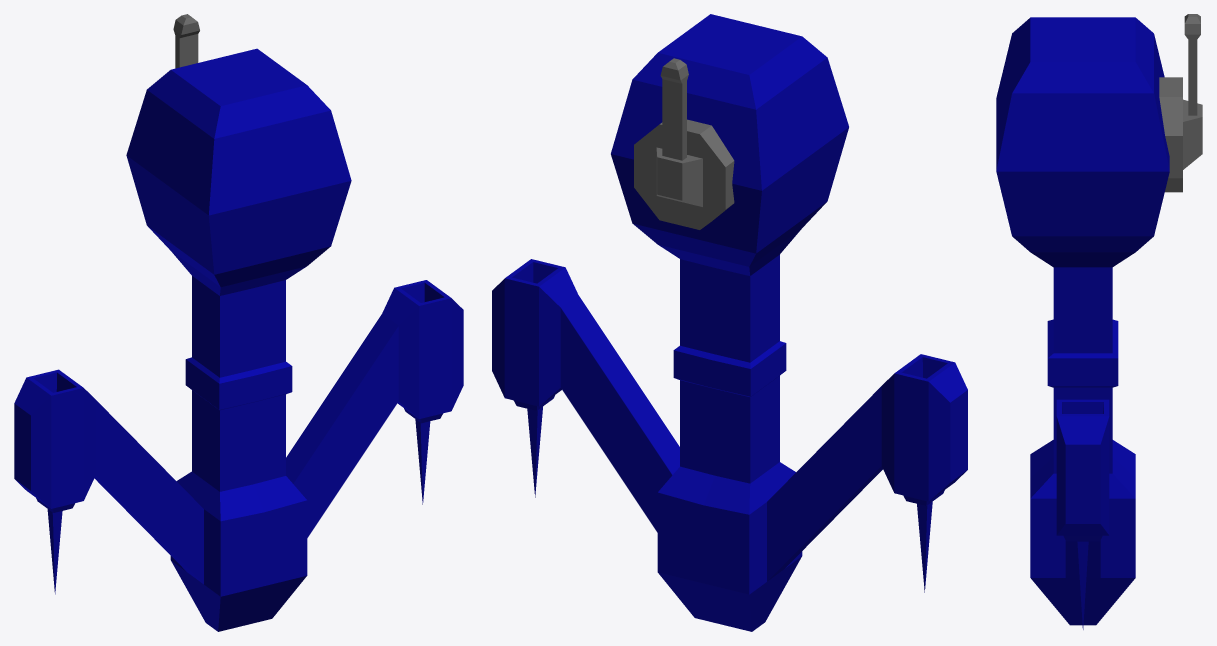
Rendered from orbiter.fbx.
3 views of the same model, side by side, from view 1: azimuth 30°, elevation 25°; view 2: azimuth 150°, elevation 25°; view 3: azimuth 270°, elevation 25° (orthographic). The views are drawn at different scales.
Visible parts, largest first — view 1: Ship, Turret; view 2: Ship, Turret; view 3: Ship, Turret.
Boxes of the visible parts, bbox=[...] form: Ship: bbox=[14, 48, 463, 631]; Turret: bbox=[173, 14, 199, 68]; Ship: bbox=[492, 14, 967, 631]; Turret: bbox=[634, 58, 734, 229]; Ship: bbox=[996, 17, 1169, 629]; Turret: bbox=[1159, 14, 1202, 192].
Bounding box in the file's own units: 100000 × 125061 × 39250.
